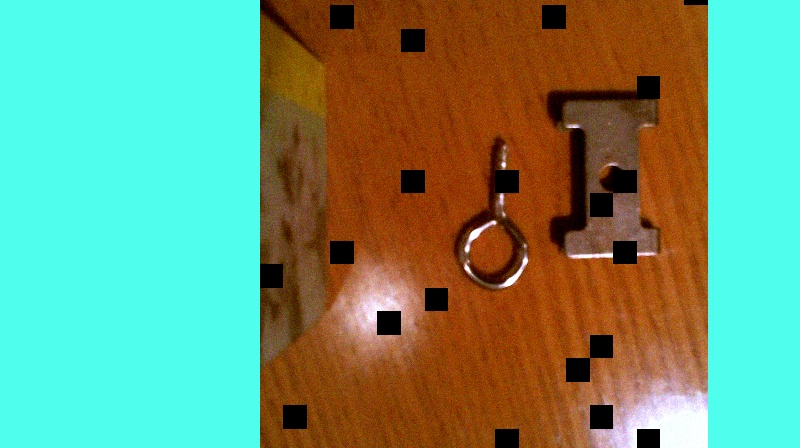O001: (456, 130, 532, 294)
O002: (548, 89, 666, 262)
